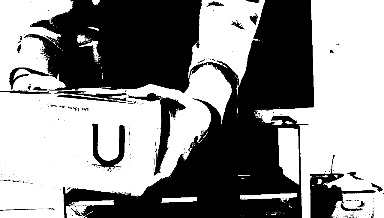U: (87, 119, 127, 168)
